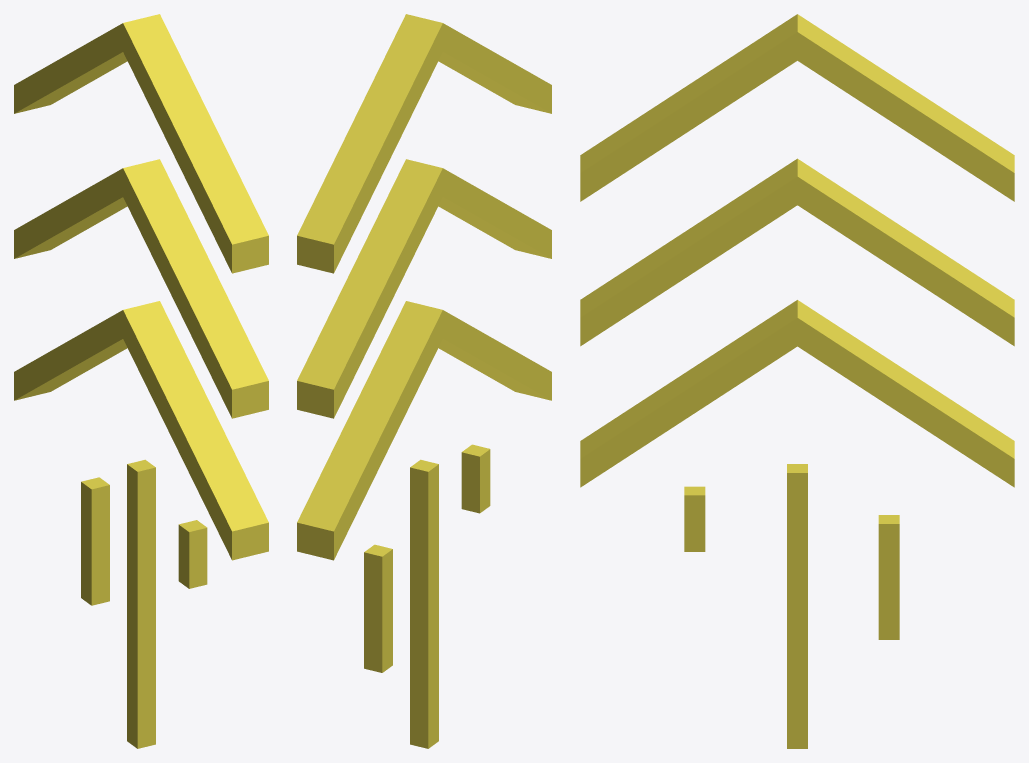
The model's file is Speed.fbx.
The picture shows the model from 3 angles, left to right: view 1: azimuth 30°, elevation 25°; view 2: azimuth 150°, elevation 25°; view 3: azimuth 270°, elevation 25°; orthographic projection.
Parts seen in each view (by area): view 1: Cube.005; view 2: Cube.005; view 3: Cube.005.
Boxes of the visible parts, <box> form: Cube.005: <box>14,14,268,748</box>; Cube.005: <box>297,14,551,748</box>; Cube.005: <box>580,14,1014,748</box>.
Bounding box in the file's own units: 10.79 × 203 × 111.
